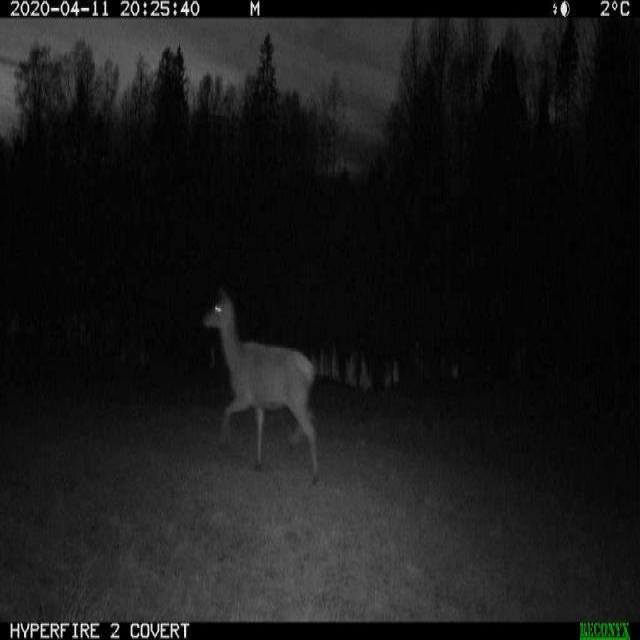deer: (192, 272, 333, 485)
